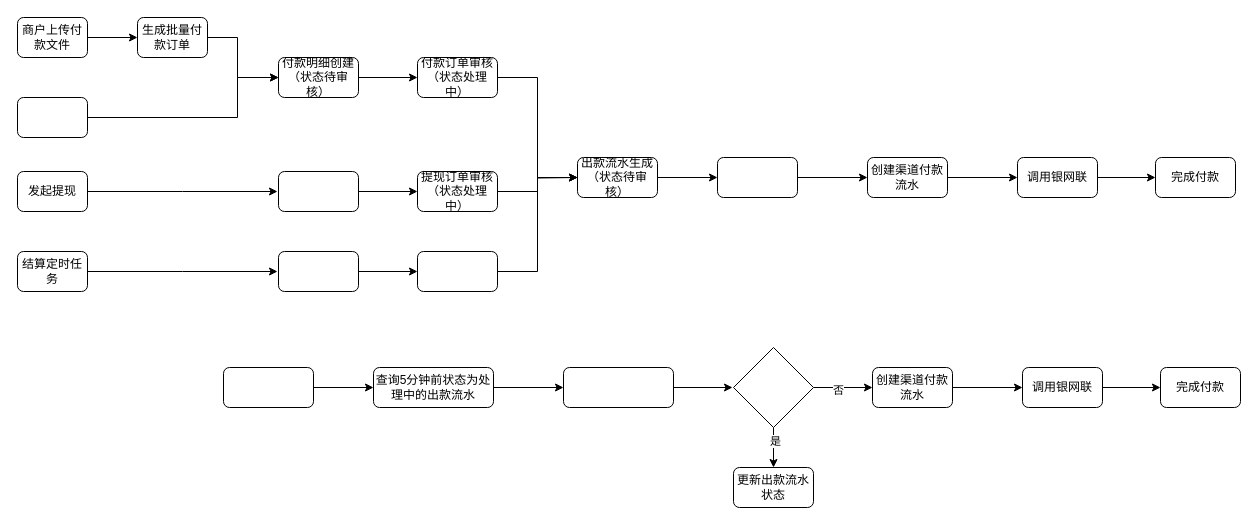
The diagram is 1258 pixels wide and 525 high, and some of its shapes have lost their labels. The box of each missing label's shape, as (x1, y1, x2, y2) in pixels:
出款流水审核 （状态处理中）: (716, 156, 798, 198)
出款流水状态补偿定时任务: (222, 366, 314, 408)
商户 单笔付款: (16, 96, 88, 138)
提现订单创建 （状态待审核）: (278, 170, 358, 212)
查询到渠道付款流水: (732, 346, 814, 428)
查询对应渠道付款流水的处理结果: (562, 366, 674, 408)
结算单审核 （状态处理中）: (416, 250, 498, 292)
结算单生成 （状态待审核）: (278, 250, 358, 292)
